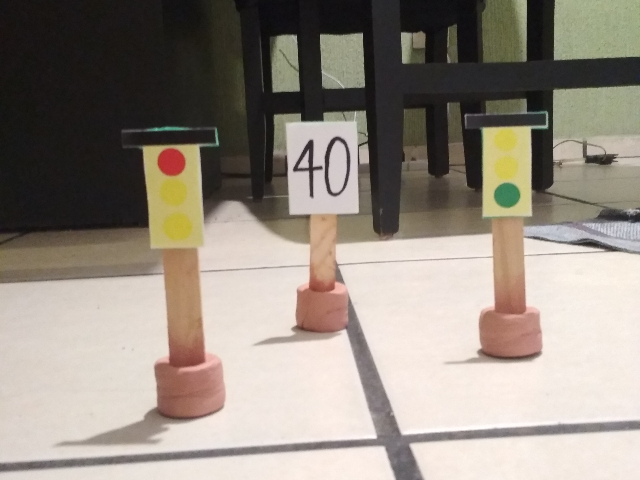Green: (462, 110, 548, 220)
Limit 40: (285, 116, 358, 216)
Red: (120, 123, 219, 249)
